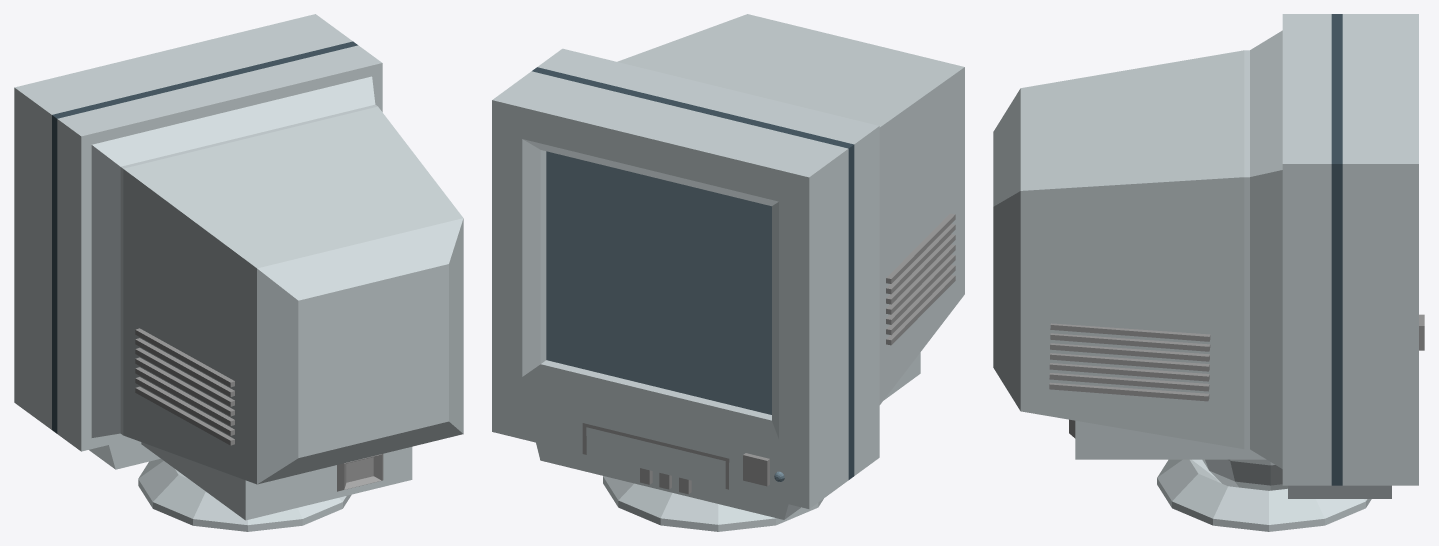
Rendered from CRT Monitor.glb.
The picture shows the model from 3 angles, left to right: view 1: azimuth 30°, elevation 25°; view 2: azimuth 150°, elevation 25°; view 3: azimuth 270°, elevation 25°; orthographic projection. The views are drawn at different scales.
Parts seen in each view (by area): view 1: Node; view 2: Node; view 3: Node.
Part boxes in pixels (left/top/right/bottom): Node: left=14, top=14, right=463, bottom=531; Node: left=492, top=14, right=964, bottom=531; Node: left=993, top=14, right=1424, bottom=531.
Bounding box in the file's own units: 0.65 × 0.7904 × 0.7902.
